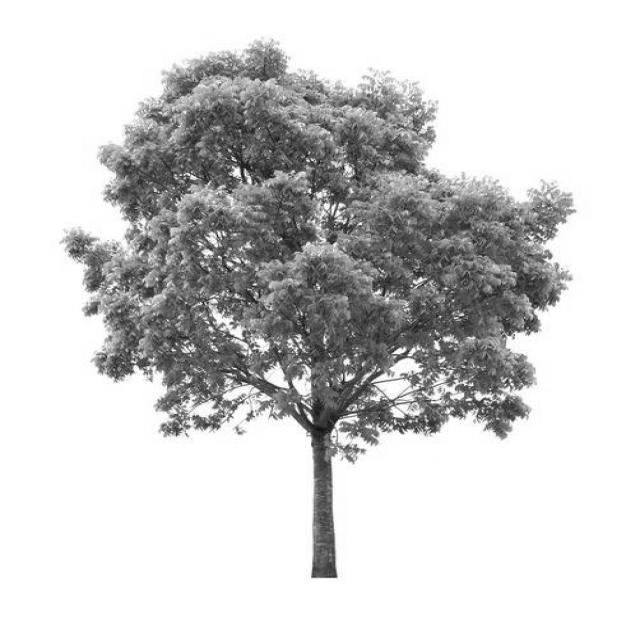Tree: (65, 41, 574, 578)
